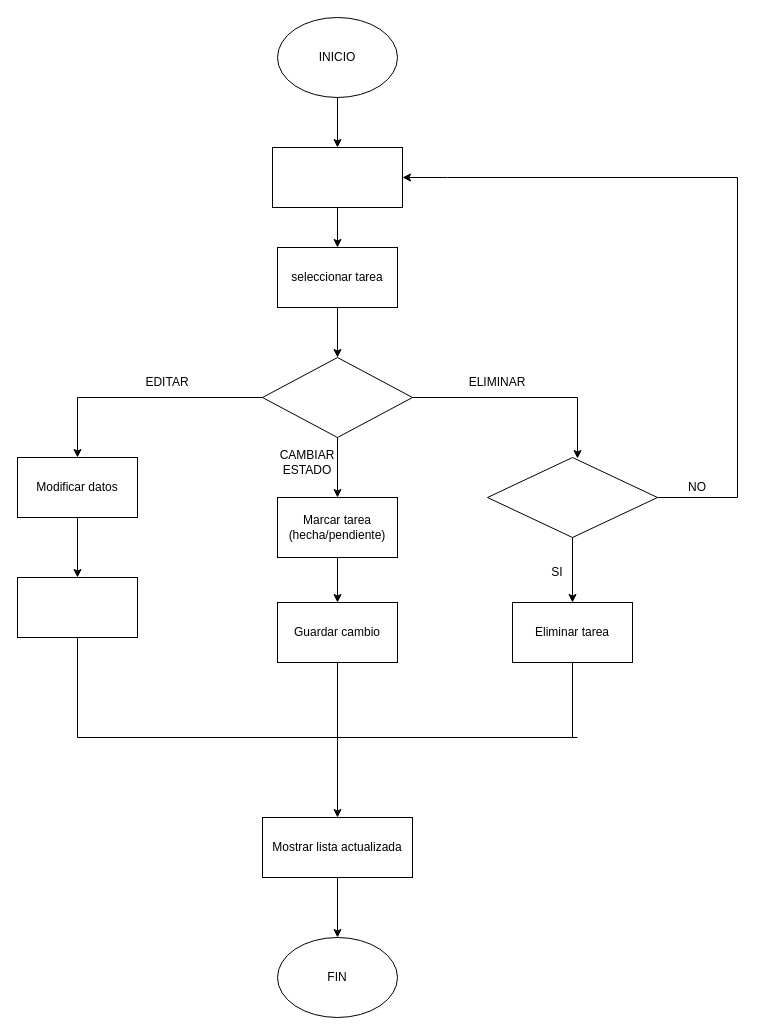
The diagram is 763 pixels wide and 1035 high, and some of its shapes have lost their labels. The shapes that lost their labels are listed below. From the top down, each one's centre as x and y in pixels, then its label:
the point at 337,177: Mostrar lista de tareas
the point at 337,397: ¿Que desea hacer?
the point at 572,497: ¿Confirmar eliminacion?
the point at 77,607: Guardar
